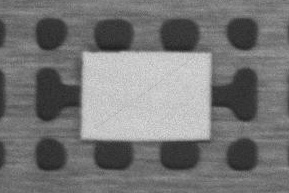DIE_CRACK: (142, 38, 289, 85)
